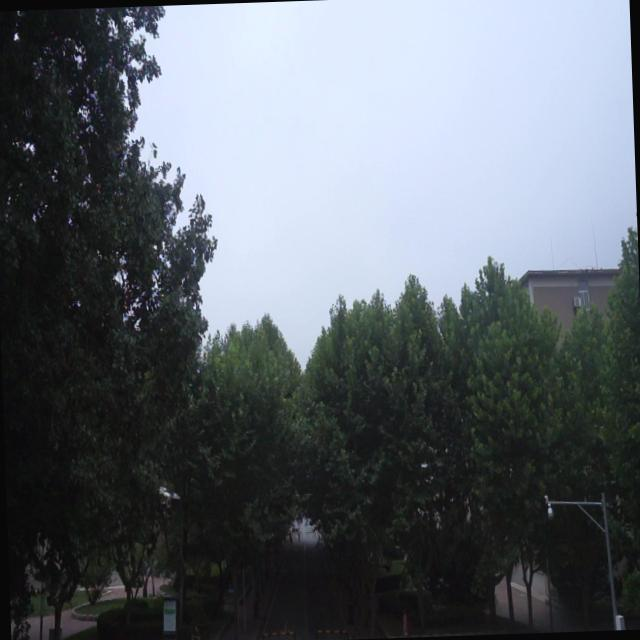drone: (156, 478, 182, 510)
